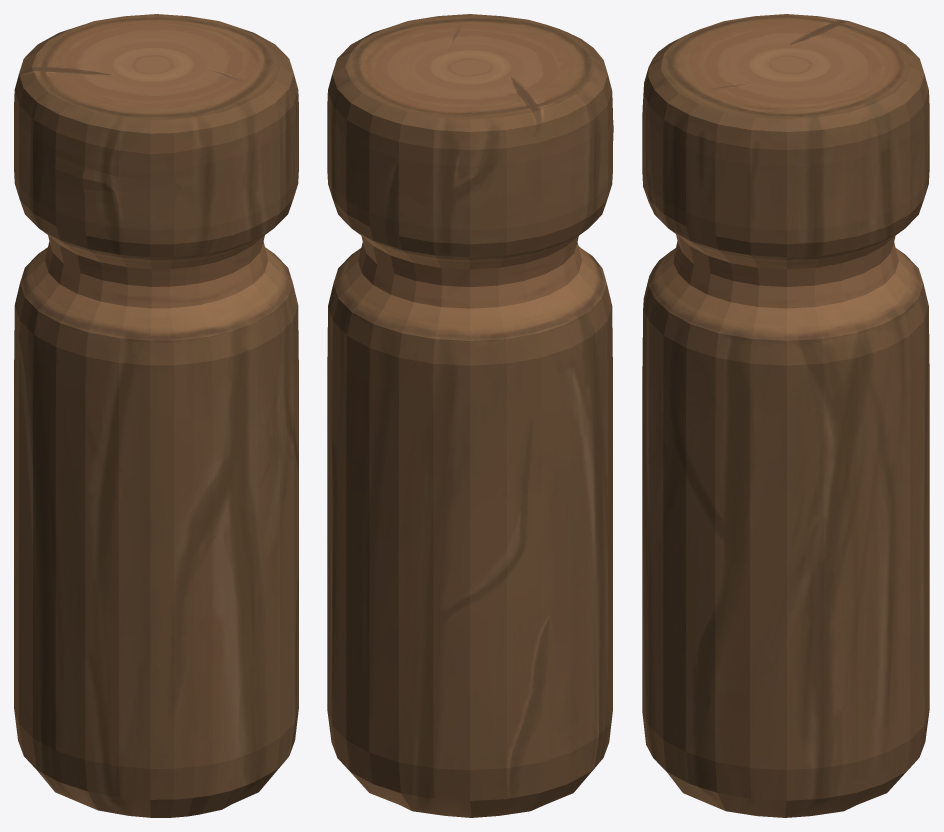
Rendered from TargetDummyBody.fbx.
3 renders of one model, left to right at view 1: azimuth 30°, elevation 25°; view 2: azimuth 150°, elevation 25°; view 3: azimuth 270°, elevation 25°, orthographic.
Visible parts, largest first — view 1: Cylinder; view 2: Cylinder; view 3: Cylinder.
Boxes of the visible parts, <box> form: Cylinder: <box>14,14,298,817</box>; Cylinder: <box>327,14,613,817</box>; Cylinder: <box>642,14,929,817</box>.
Bounding box in the file's own units: 95.53 × 267 × 96.09.
